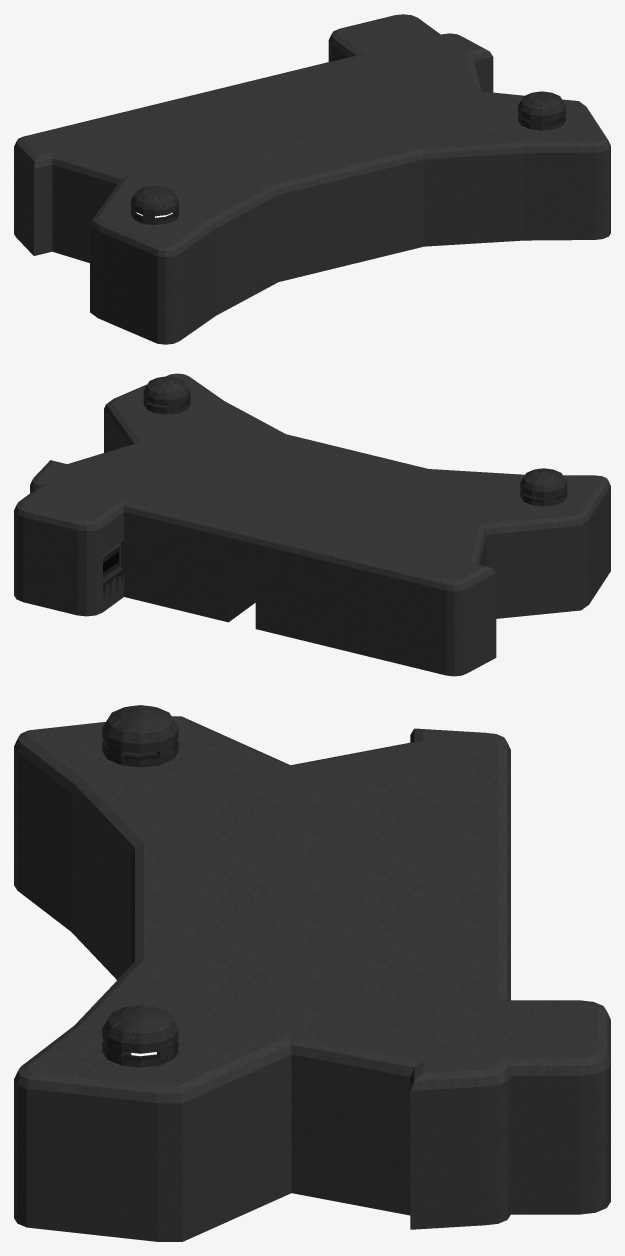
The model's file is barracks_bunker.glb.
The picture shows the model from 3 angles, top to bottom: view 1: azimuth 30°, elevation 25°; view 2: azimuth 150°, elevation 25°; view 3: azimuth 270°, elevation 25°; orthographic projection. The views are drawn at different scales.
Parts seen in each view (by area): view 1: base; view 2: base; view 3: base.
Part boxes in pixels (<box>): base: <box>14,14,610,344</box>; base: <box>14,373,610,676</box>; base: <box>14,705,610,1241</box>.
Size of the model in its own units: 6 by 1.4 by 3.98.
1 material, 1 textured.
